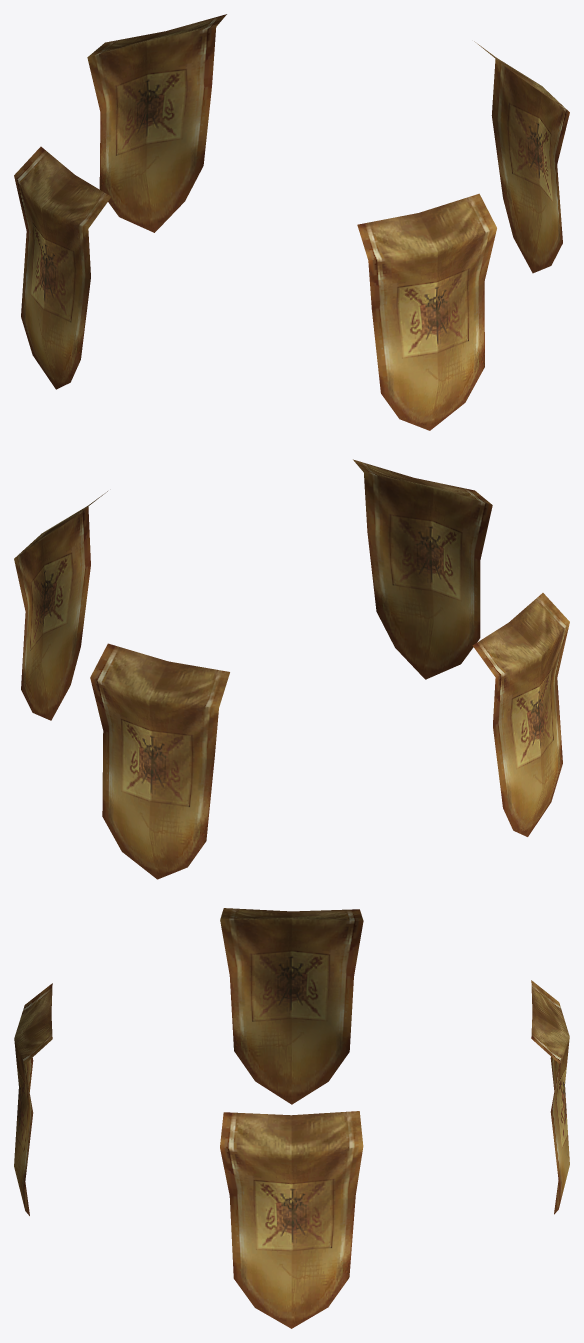
Rendered from OZ_40_mi_sumfes03A.glb.
3 renders of one model, top to bottom at view 1: azimuth 30°, elevation 25°; view 2: azimuth 150°, elevation 25°; view 3: azimuth 270°, elevation 25°, orthographic. The views are drawn at different scales.
Parts seen in each view (by area): view 1: OM_40_mi_sumfes03A; view 2: OM_40_mi_sumfes03A; view 3: OM_40_mi_sumfes03A.
Part boxes in pixels (<box>): OM_40_mi_sumfes03A: <box>14,14,569,430</box>; OM_40_mi_sumfes03A: <box>14,459,569,879</box>; OM_40_mi_sumfes03A: <box>14,908,569,1328</box>.
Bounding box in the file's own units: 3.8 × 1.55 × 3.79.
Materials: 1 (1 with a texture image).
